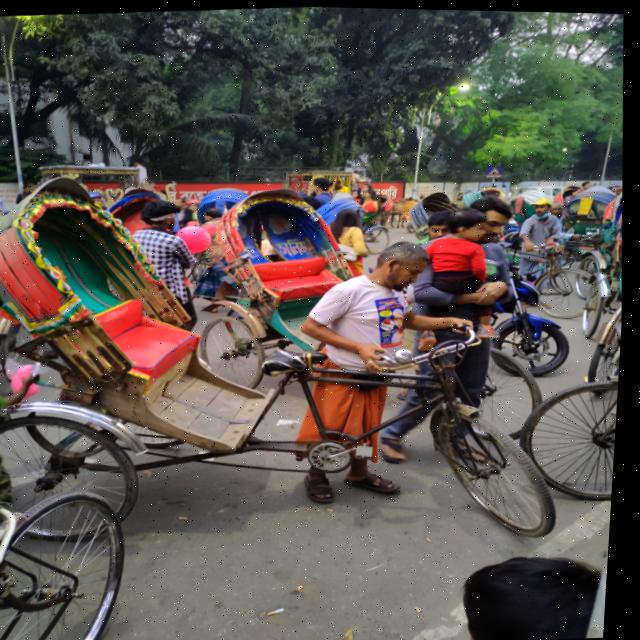rikshaw: (0, 140, 576, 582), (200, 166, 462, 396)
